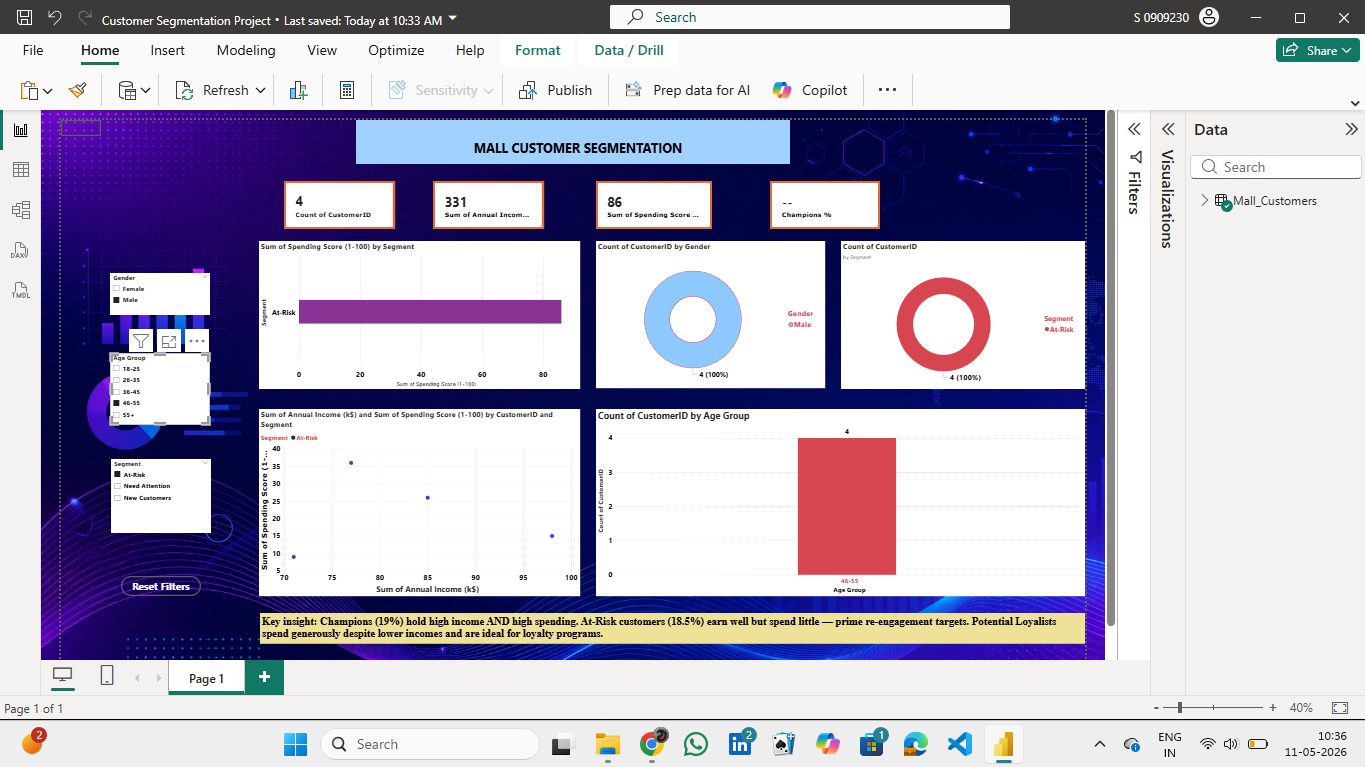

The page's visual inventory and layout, read from the dashboard file:
{"tool":"powerbi","page":{"name":"Page 1","canvas":[2560,1440],"ordinal":0},"visuals":[{"type":"cardVisual","fields":{"Data":["CountNonNull(Mall_Customers.CustomerID)"]},"box":[557.5,152.5,277.5,120],"z":0},{"type":"cardVisual","fields":{"Data":["Sum(Mall_Customers.Annual Income (k$))"]},"box":[930,152.5,277.5,120],"z":1000},{"type":"cardVisual","fields":{"Data":["Sum(Mall_Customers.Spending Score (1-100))"]},"box":[1337.5,152.5,290,120],"z":2000},{"type":"textbox","box":[737.5,0,1085,110],"z":3000},{"type":"scatterChart","fields":{"Y":["Sum(Mall_Customers.Spending Score (1-100))"],"X":["Sum(Mall_Customers.Annual Income (k$))"],"Category":["Mall_Customers.CustomerID"],"Series":["Mall_Customers.Segment"]},"box":[495,722.5,802.5,467.5],"z":4000},{"type":"donutChart","fields":{"Category":["Mall_Customers.Segment"],"Y":["CountNonNull(Mall_Customers.CustomerID)"]},"box":[1950,302.5,610,370],"z":5000},{"type":"slicer","fields":{"Values":["Mall_Customers.Gender"]},"box":[122.5,382.5,250,105],"z":6000},{"type":"slicer","fields":{"Values":["Mall_Customers.Age Group"]},"box":[122.5,582.5,250,180],"z":7000},{"type":"slicer","fields":{"Values":["Mall_Customers.Segment"]},"box":[125,847.5,250,185],"z":8000},{"type":"donutChart","fields":{"Category":["Mall_Customers.Gender"],"Y":["CountNonNull(Mall_Customers.CustomerID)"]},"box":[1337.5,302.5,572.5,367.5],"z":9000},{"type":"clusteredBarChart","fields":{"Category":["Mall_Customers.Segment"],"Y":["Sum(Mall_Customers.Spending Score (1-100))"]},"box":[495,302.5,802.5,370],"z":10000},{"type":"clusteredColumnChart","fields":{"Category":["Mall_Customers.Age Group"],"Y":["CountNonNull(Mall_Customers.CustomerID)"]},"box":[1337.5,722.5,1222.5,467.5],"z":11000},{"type":"cardVisual","fields":{"Data":["Mall_Customers.Champions %"]},"box":[1772.5,152.5,275,120],"z":12000},{"type":"actionButton","box":[0,0,100,40],"z":13000},{"type":"actionButton","box":[150,1140,200,50],"z":14000},{"type":"textbox","box":[496.7,1233.3,2063.3,76.7],"z":14001}]}

Visuals, with their boxes on the page's 2560x1440 design canvas (x1, y1, x2, y2). These are canvas units, not pixel positions in the 1365x767 screenshot, which may show the page scaled, cropped or inside an application window:
cardVisual - CountNonNull(Mall_Customers.CustomerID): (558, 152, 835, 272)
cardVisual - Sum(Mall_Customers.Annual Income (k$)): (930, 152, 1208, 272)
cardVisual - Sum(Mall_Customers.Spending Score (1-100)): (1338, 152, 1628, 272)
textbox: (738, 0, 1822, 110)
scatterChart - Sum(Mall_Customers.Spending Score (1-100)) x Sum(Mall_Customers.Annual Income (k$)): (495, 722, 1298, 1190)
donutChart - Mall_Customers.Segment x CountNonNull(Mall_Customers.CustomerID): (1950, 302, 2560, 672)
slicer - Mall_Customers.Gender: (122, 382, 372, 488)
slicer - Mall_Customers.Age Group: (122, 582, 372, 762)
slicer - Mall_Customers.Segment: (125, 848, 375, 1032)
donutChart - Mall_Customers.Gender x CountNonNull(Mall_Customers.CustomerID): (1338, 302, 1910, 670)
clusteredBarChart - Mall_Customers.Segment x Sum(Mall_Customers.Spending Score (1-100)): (495, 302, 1298, 672)
clusteredColumnChart - Mall_Customers.Age Group x CountNonNull(Mall_Customers.CustomerID): (1338, 722, 2560, 1190)
cardVisual - Mall_Customers.Champions %: (1772, 152, 2048, 272)
actionButton: (0, 0, 100, 40)
actionButton: (150, 1140, 350, 1190)
textbox: (497, 1233, 2560, 1310)
